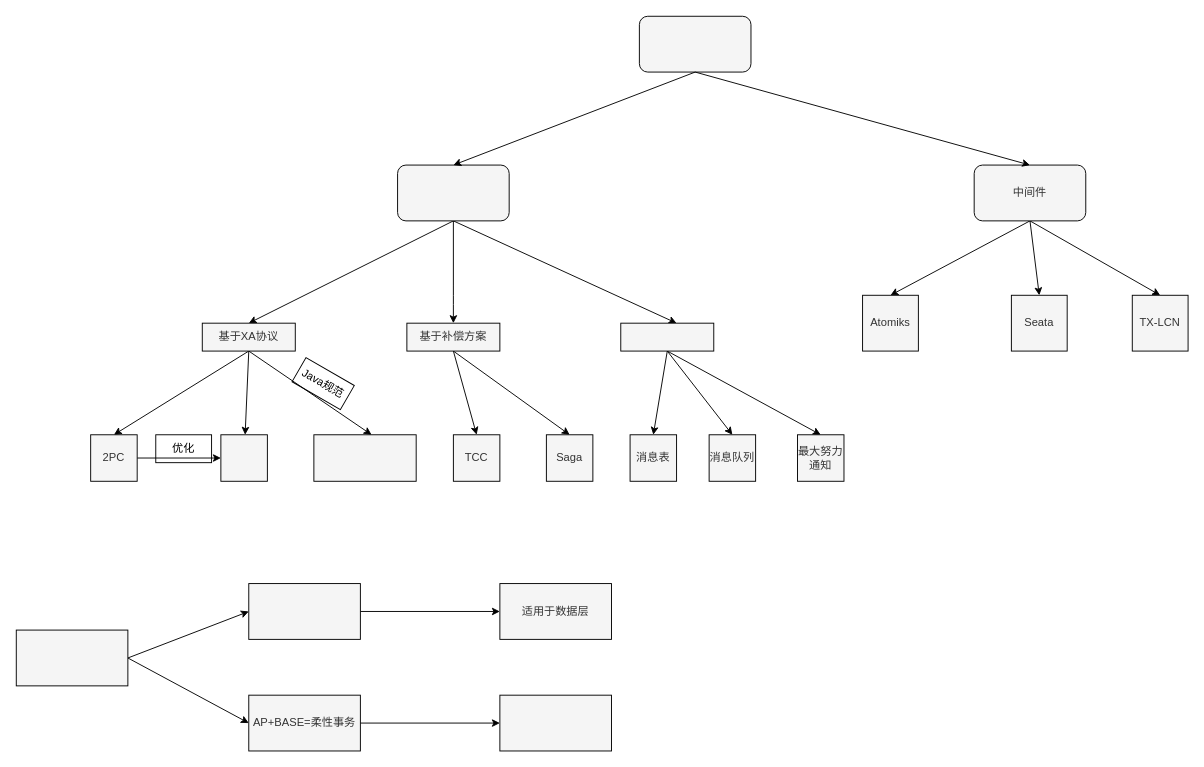
This 1204x767 diagram has some shape labels left out. Each missing label, with the centre of its shape:
"3PC" goes at (243,457).
"CP+ACID=刚性事务" goes at (304,611).
"JTA/JTS" goes at (364,457).
"从分布式理论理解" goes at (71,657).
"分布式事务" goes at (694,43).
"基于最终一致性" goes at (667,336).
"技术方案" goes at (453,192).
"适用于业务层" goes at (555,722).
